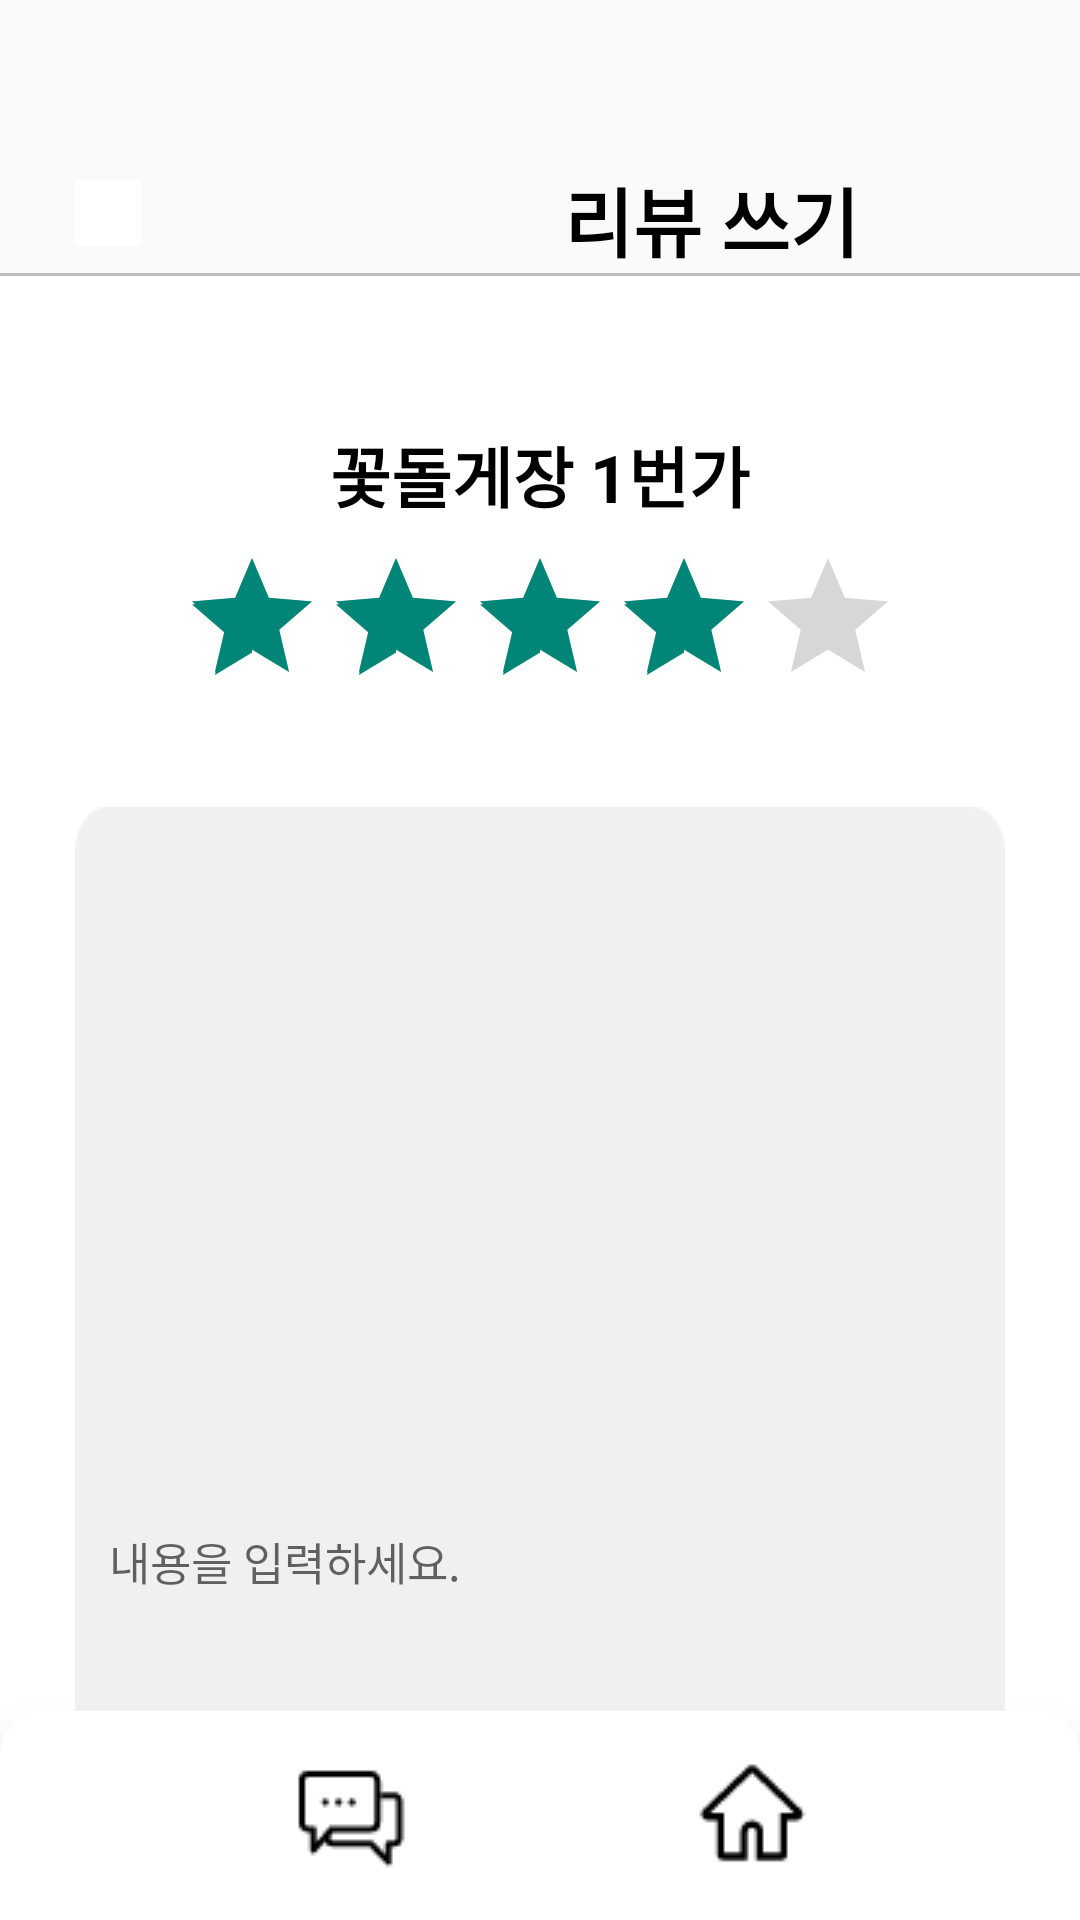

Named icons in this screenshot (1080 × 1920) and their centers, (x=x, y=y):
chatting off: (x=351, y=1818)
home off: (x=752, y=1813)
